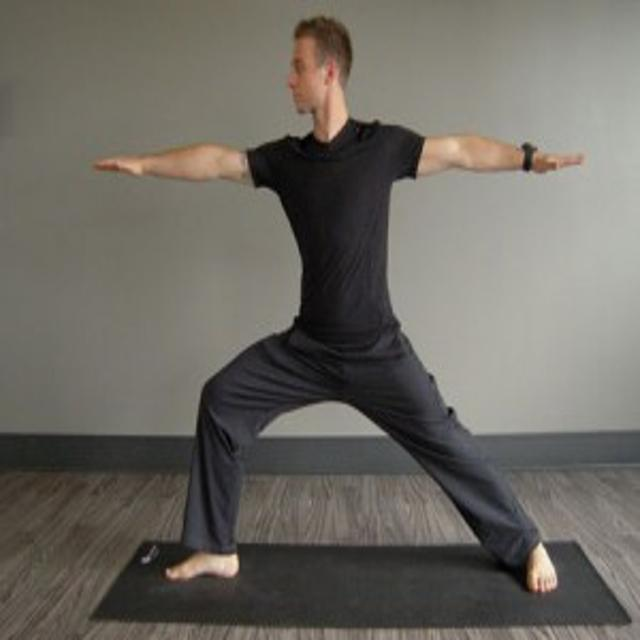Warrior_II: (88, 15, 592, 593)
